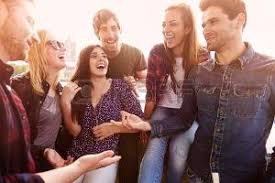person: (194, 2, 259, 92), (82, 10, 144, 75), (27, 22, 72, 103), (72, 45, 127, 109), (154, 10, 198, 73)
